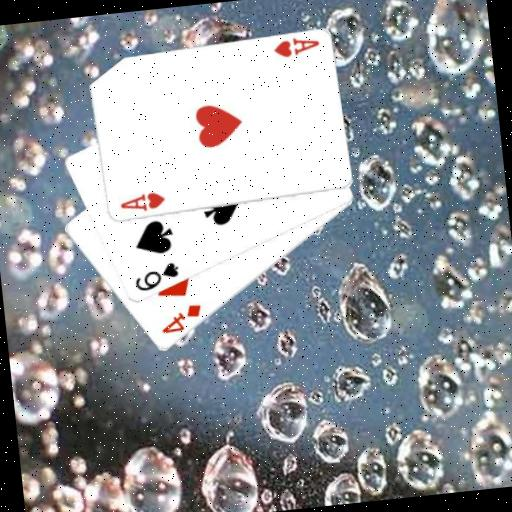4D: (156, 300, 205, 336)
6S: (130, 259, 182, 294)
AH: (270, 33, 322, 61), (116, 188, 167, 215)
